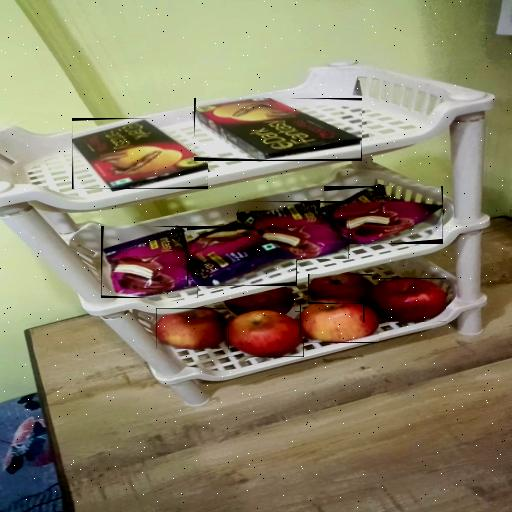Apple: (363, 278, 446, 322), (227, 311, 304, 357), (300, 300, 379, 343), (156, 308, 229, 349), (308, 274, 372, 304), (227, 288, 295, 316)
Choco Fills: (194, 98, 362, 161), (72, 118, 208, 189)
Choco Pie: (101, 226, 198, 298), (324, 186, 443, 244), (187, 226, 297, 286), (237, 202, 349, 259)
